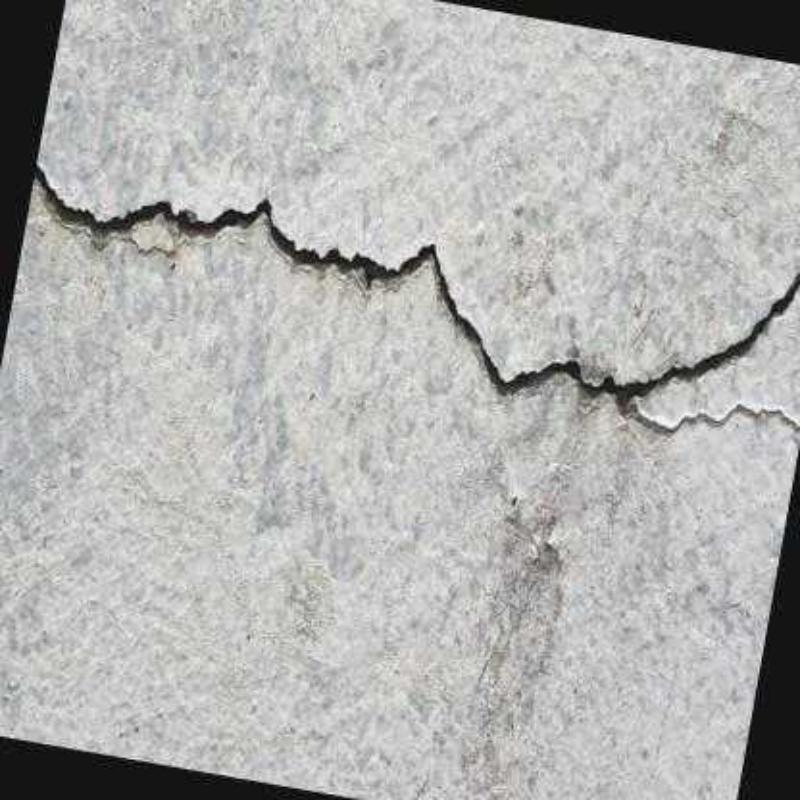pothole: (34, 164, 799, 408), (631, 403, 800, 432)
